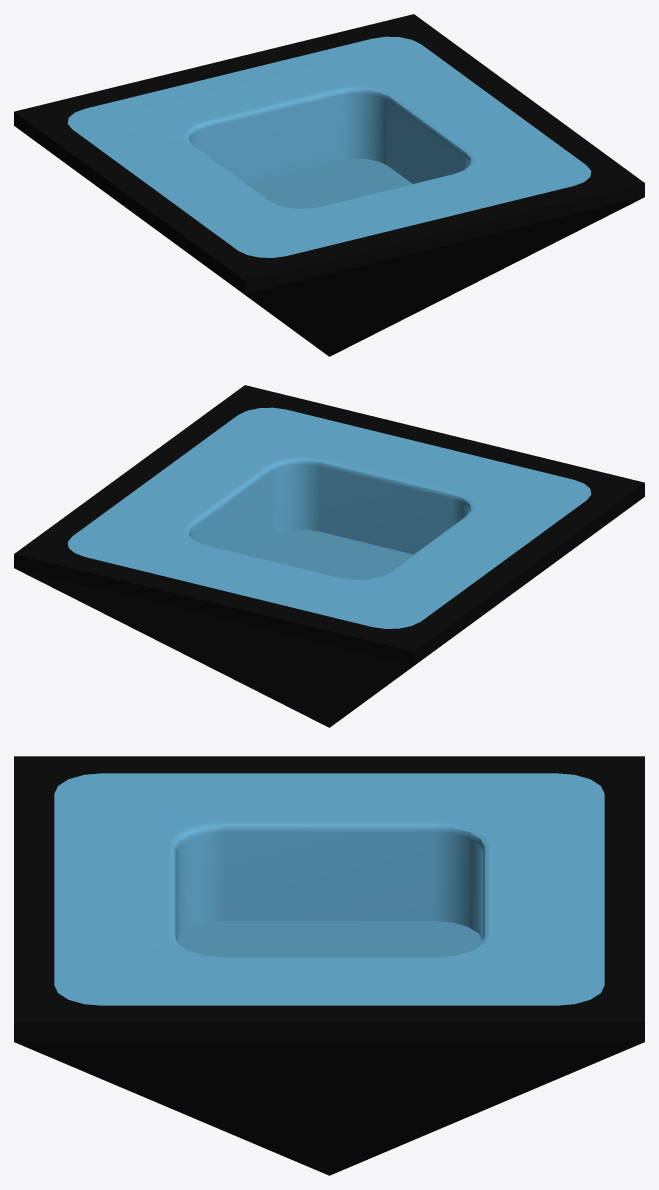
The model's file is Cell Blue.fbx.
3 renders of one model, top to bottom at view 1: azimuth 30°, elevation 25°; view 2: azimuth 150°, elevation 25°; view 3: azimuth 270°, elevation 25°, orthographic. The views are drawn at different scales.
Visible parts, largest first — view 1: Cell_Blue; view 2: Cell_Blue; view 3: Cell_Blue.
Part boxes in pixels (x1,y1,x2,y2): Cell_Blue: (14,14,644,356); Cell_Blue: (14,385,644,727); Cell_Blue: (14,756,644,1175).
Bounding box in the file's own units: 100 × 50.06 × 100.
